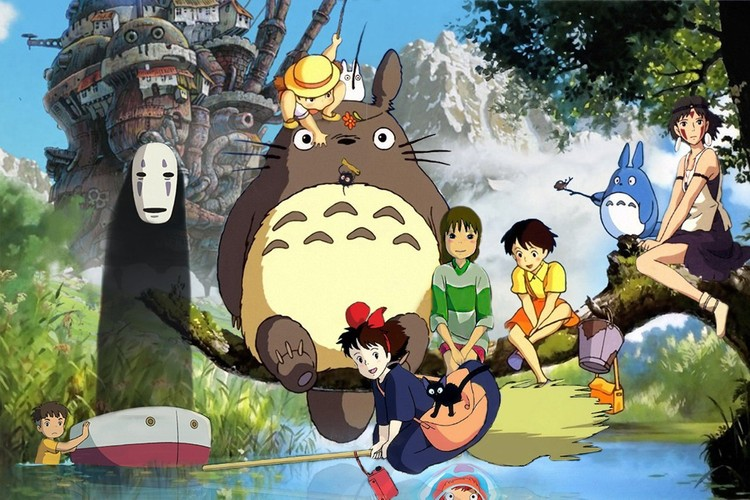Totoro: (213, 46, 461, 449)
